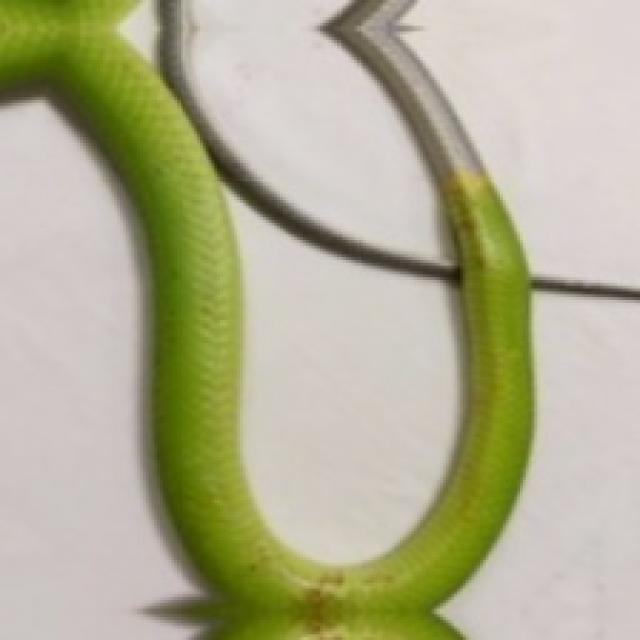red-tailed green ratsnake: (0, 0, 531, 637)
